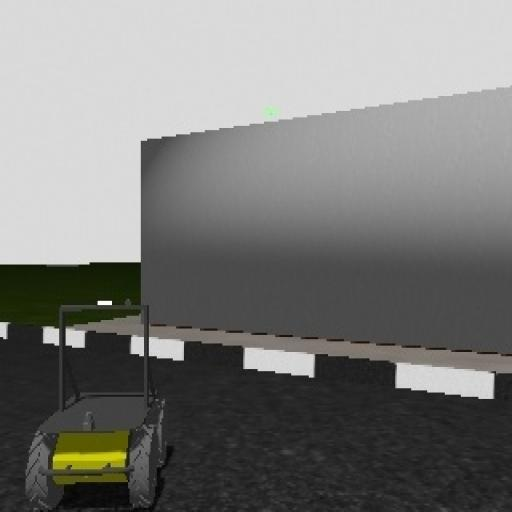huskya200: (22, 296, 175, 508)
